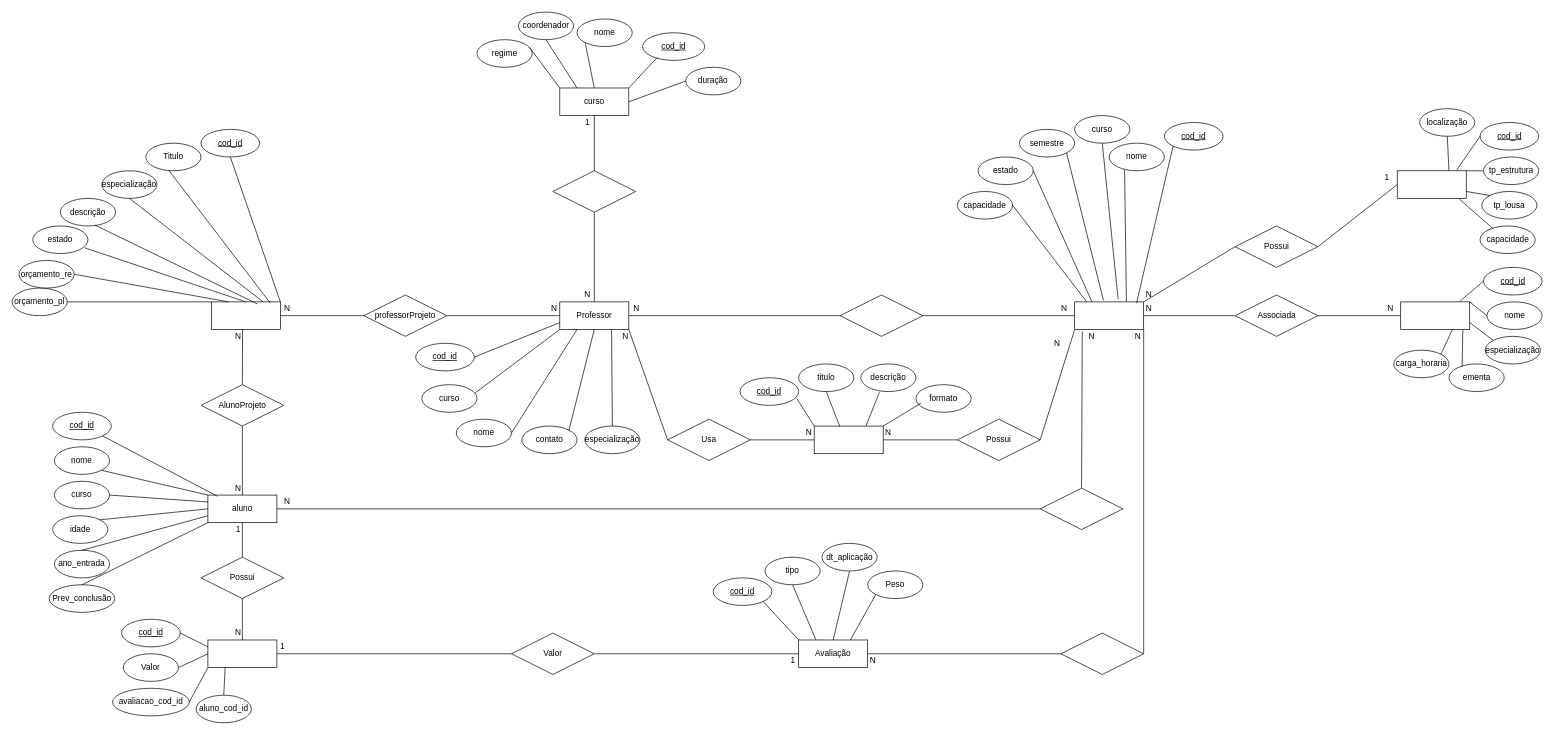
Some shapes in this 1555 by 735 pixel diagram are drawn without their labels. Here are the shapes that lost their labels. From the top down, the box of each, then its label:
(552, 170, 636, 212): pertence
(1397, 170, 1466, 198): Sala de Aula
(211, 301, 280, 329): Projeto de Pesquisa
(839, 294, 923, 336): Ministra
(1074, 301, 1144, 329): Turma
(1400, 301, 1470, 329): disciplina
(814, 425, 883, 454): Material didático
(1039, 487, 1123, 530): participa
(207, 639, 277, 668): Nota
(1060, 632, 1144, 674): Aplicada
